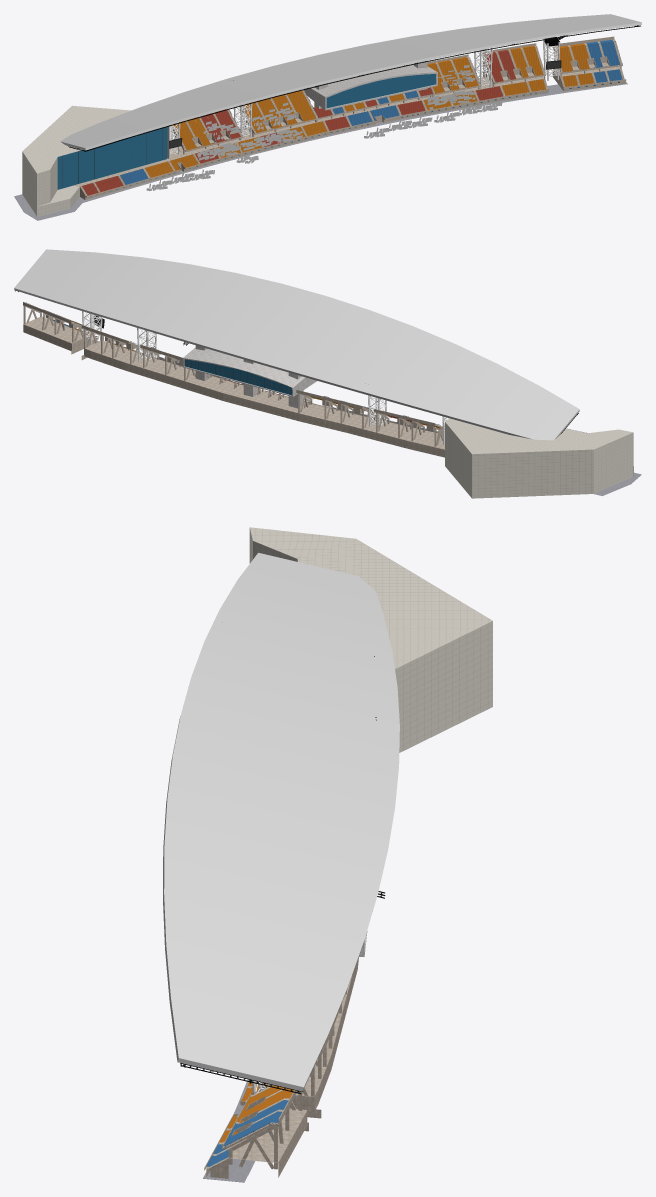
The model's file is Kantai.fbx.
3 renders of one model, top to bottom at view 1: azimuth 30°, elevation 25°; view 2: azimuth 150°, elevation 25°; view 3: azimuth 270°, elevation 25°, orthographic. The views are drawn at different scales.
Visible parts, largest first — view 1: Ding (×2), GuanZhongTai, LouTi, BoLi, polySurface403, Jie_gou_jia, LouTi_03, polySurface406, polySurface404; view 2: Ding (×2), polySurface403, LouTi, Jie_gou_jia, BoLi, ZhuZi; view 3: Ding, polySurface403, LouTi, GuanZhongTai.
Boxes of the visible parts, x1,y1,x2,y2 form: Ding (×2): (60, 14, 641, 150); GuanZhongTai: (80, 40, 622, 196); LouTi: (73, 36, 625, 199); BoLi: (57, 74, 619, 196); polySurface403: (22, 105, 168, 216); Jie_gou_jia: (68, 25, 640, 156); LouTi_03: (87, 36, 626, 197); polySurface406: (14, 82, 627, 220); polySurface404: (37, 185, 79, 216); Ding (×2): (14, 249, 579, 440); polySurface403: (445, 418, 633, 498); LouTi: (23, 302, 444, 457); Jie_gou_jia: (15, 290, 578, 444); BoLi: (184, 359, 292, 395); ZhuZi: (195, 345, 303, 408); Ding: (163, 553, 399, 1091); polySurface403: (249, 527, 492, 752); LouTi: (204, 957, 358, 1178); GuanZhongTai: (206, 1082, 293, 1166).
Bounding box in the file's own units: 49878 × 6829 × 12040.
